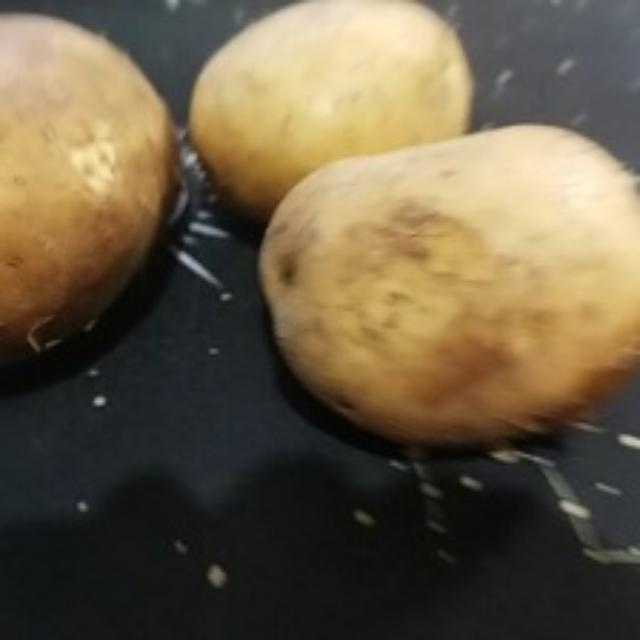Damaged potato: (256, 123, 640, 474), (1, 5, 178, 401)
Potato: (182, 4, 476, 232)
